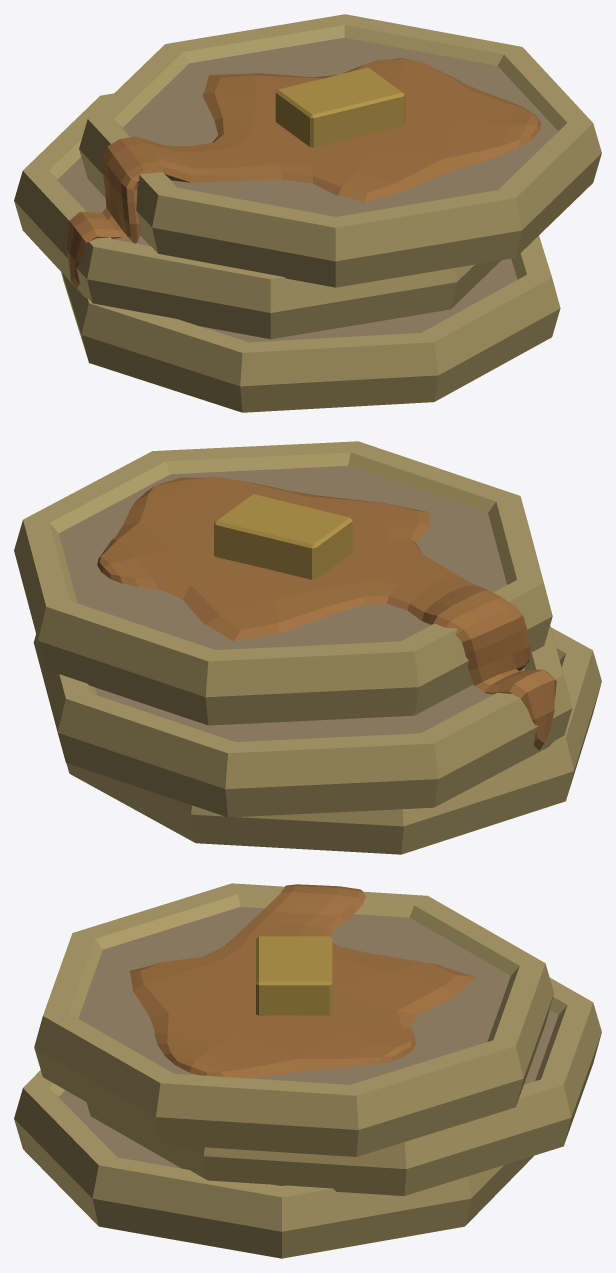
File: Pancakes_Stack.glb
3 renders of one model, top to bottom at view 1: azimuth 30°, elevation 25°; view 2: azimuth 150°, elevation 25°; view 3: azimuth 270°, elevation 25°, orthographic. The views are drawn at different scales.
Parts seen in each view (by area): view 1: Pancakes_Stack; view 2: Pancakes_Stack; view 3: Pancakes_Stack.
Part boxes in pixels (bbox=[...]): Pancakes_Stack: bbox=[14, 14, 601, 412]; Pancakes_Stack: bbox=[14, 441, 601, 854]; Pancakes_Stack: bbox=[14, 883, 601, 1258].
Size of the model in its own units: 0.2371 by 0.0956 by 0.2431.
